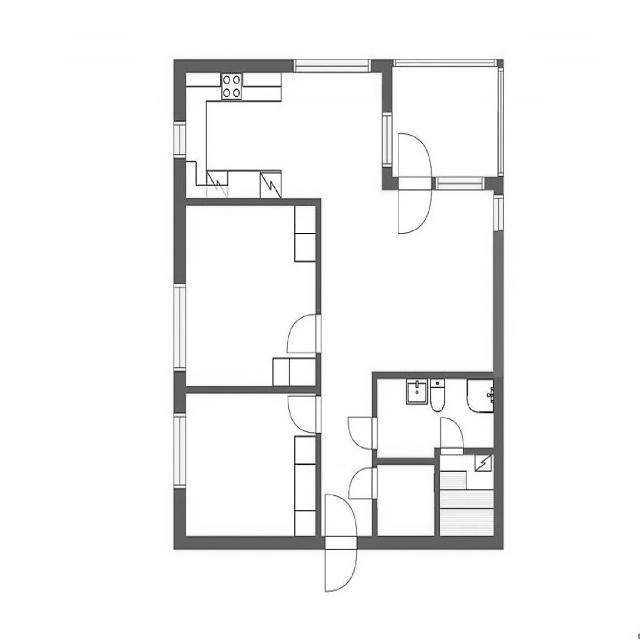door: (392, 122, 434, 238), (320, 488, 359, 558), (280, 306, 324, 360), (282, 389, 324, 436), (345, 409, 382, 453), (436, 413, 468, 455), (346, 463, 378, 503)
window: (168, 273, 190, 382), (392, 50, 500, 71), (287, 52, 377, 75), (492, 62, 510, 175), (169, 405, 190, 500), (377, 102, 396, 173), (432, 171, 489, 193), (170, 112, 188, 168), (490, 186, 508, 238)
zone: (322, 185, 503, 372), (178, 198, 323, 392), (183, 69, 389, 198), (180, 389, 321, 546), (390, 59, 503, 186), (373, 372, 500, 458), (438, 448, 500, 542), (372, 458, 437, 541)
